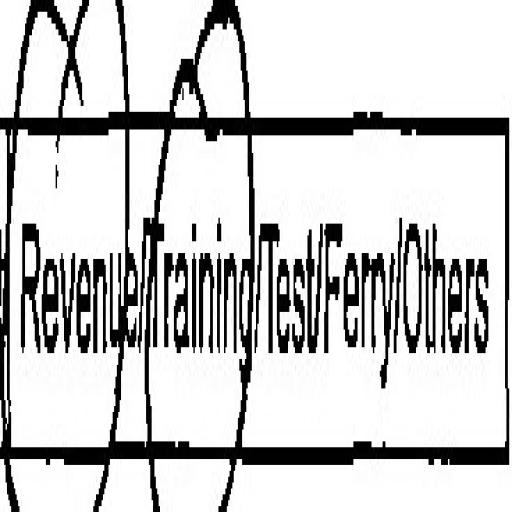check: (0, 0, 140, 512), (147, 0, 259, 512)
